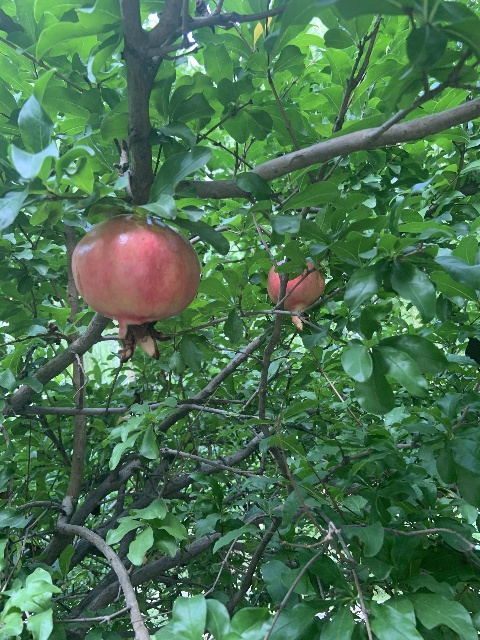ripe: (71, 215, 200, 360), (267, 260, 325, 330)
